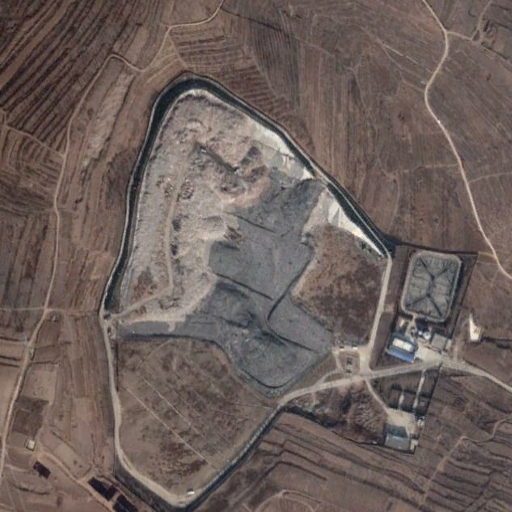lf: (103, 78, 388, 387)
